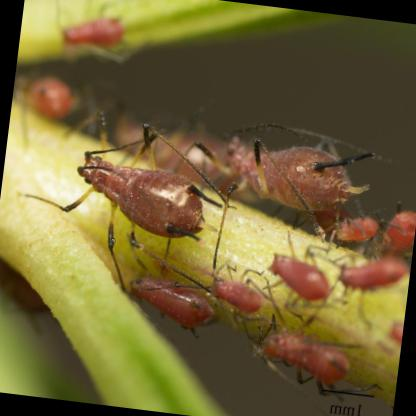uroleucon compositae: (60, 124, 223, 250), (197, 125, 374, 212)
